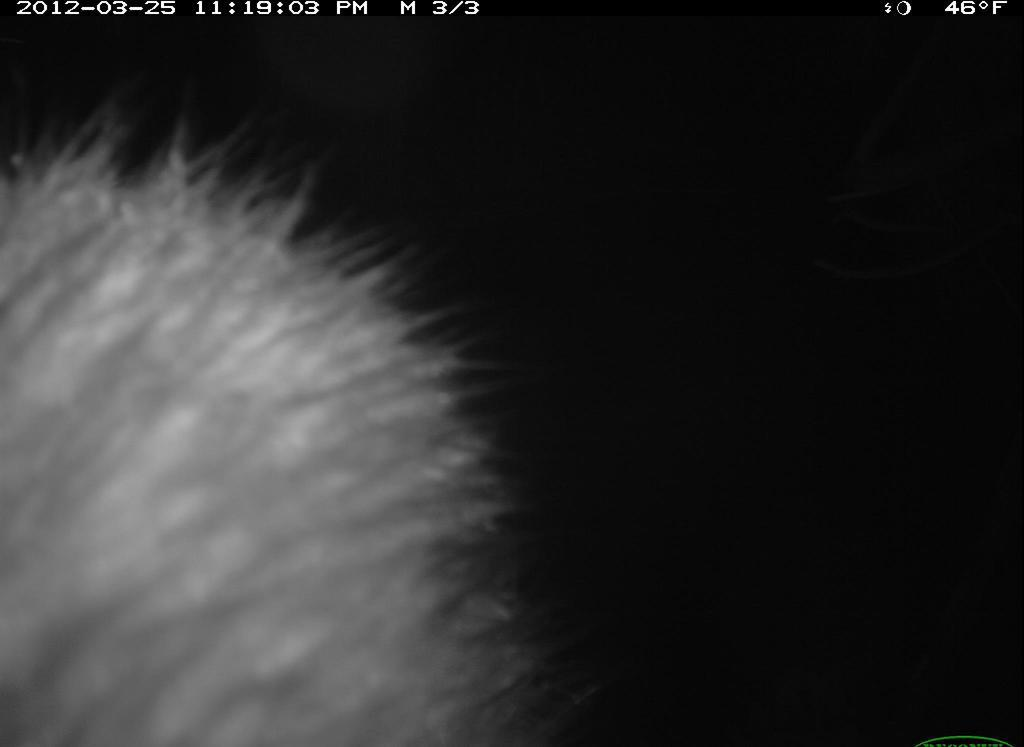raccoon: (7, 121, 596, 743)
